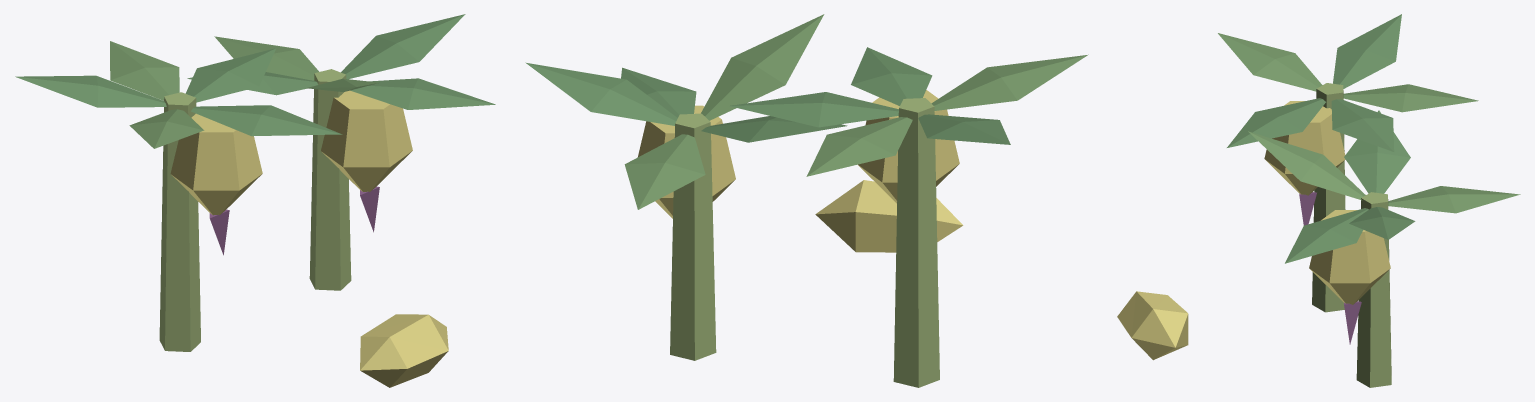
Rendered from bananas.glb.
The picture shows the model from 3 angles, left to right: view 1: azimuth 30°, elevation 25°; view 2: azimuth 150°, elevation 25°; view 3: azimuth 270°, elevation 25°; orthographic projection. The views are drawn at different scales.
Visible parts, largest first — view 1: LOD0; view 2: LOD0; view 3: LOD0.
Boxes of the visible parts, box(x1,y1,x2,y2) form: LOD0: box(15, 14, 495, 387); LOD0: box(525, 14, 1088, 387); LOD0: box(1117, 14, 1520, 387).
Size of what is drawn, in the model's own units: 0.6673 by 0.3862 by 0.5967.
